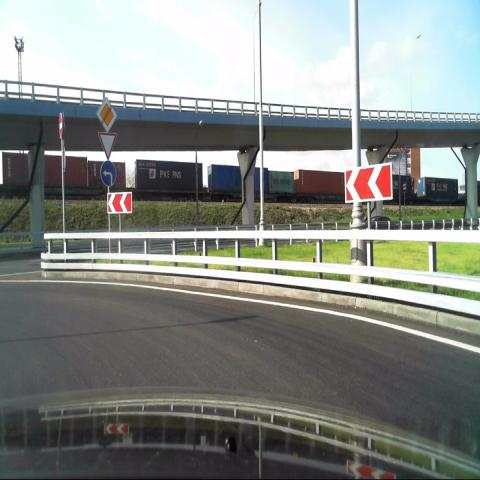3_1: (56, 110, 64, 140)
4_1_3: (100, 160, 117, 188)
